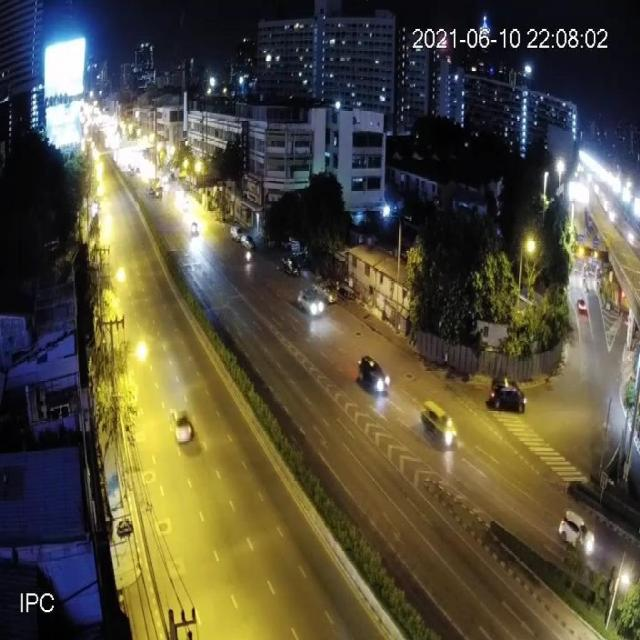Car: (559, 508, 594, 558), (359, 355, 387, 395), (170, 406, 193, 444), (298, 288, 322, 316), (314, 278, 338, 304), (281, 255, 300, 278), (241, 234, 256, 252), (576, 297, 588, 313)
Van: (420, 398, 457, 448), (489, 377, 527, 414), (231, 225, 243, 242)
